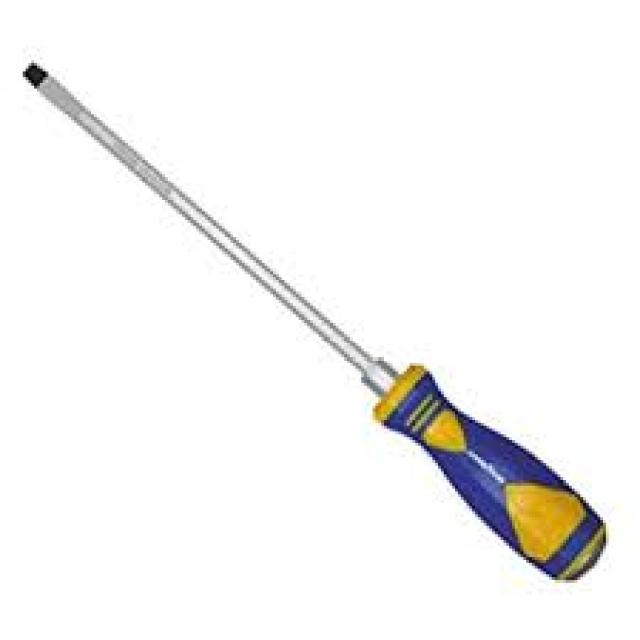screwdriver: (19, 55, 612, 588)
